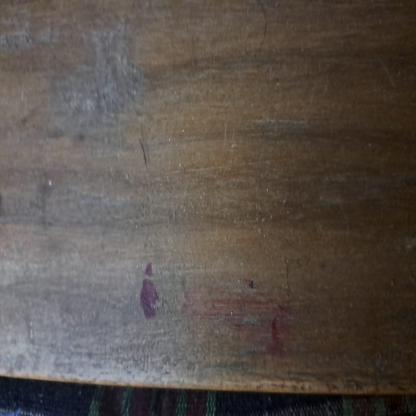spot: (178, 264, 285, 356), (136, 255, 166, 320)
